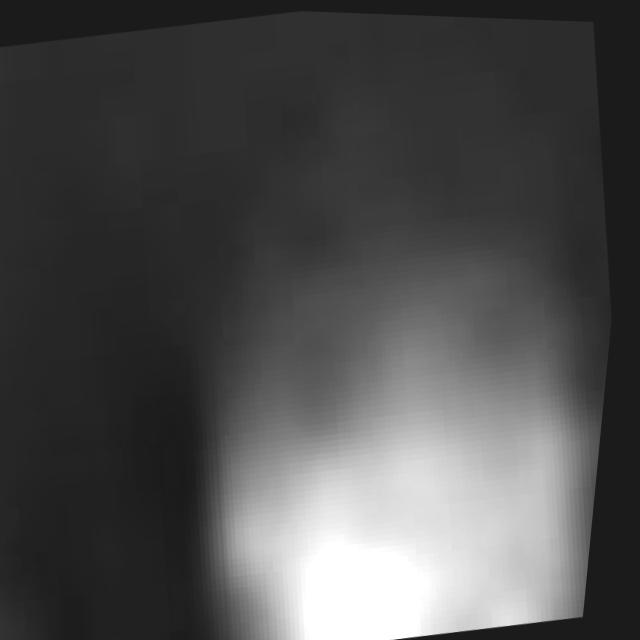person: (180, 146, 620, 640)
